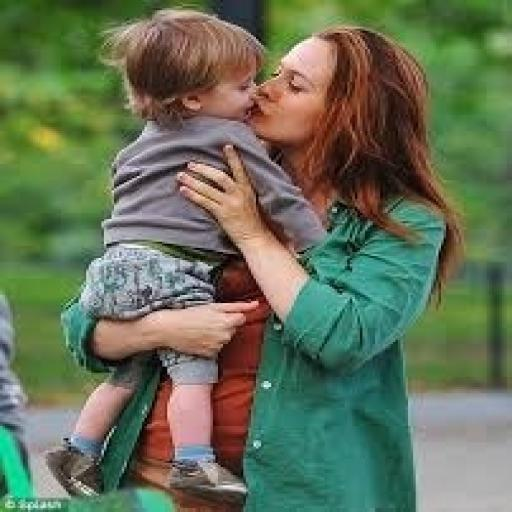hugging: (46, 8, 466, 510)
